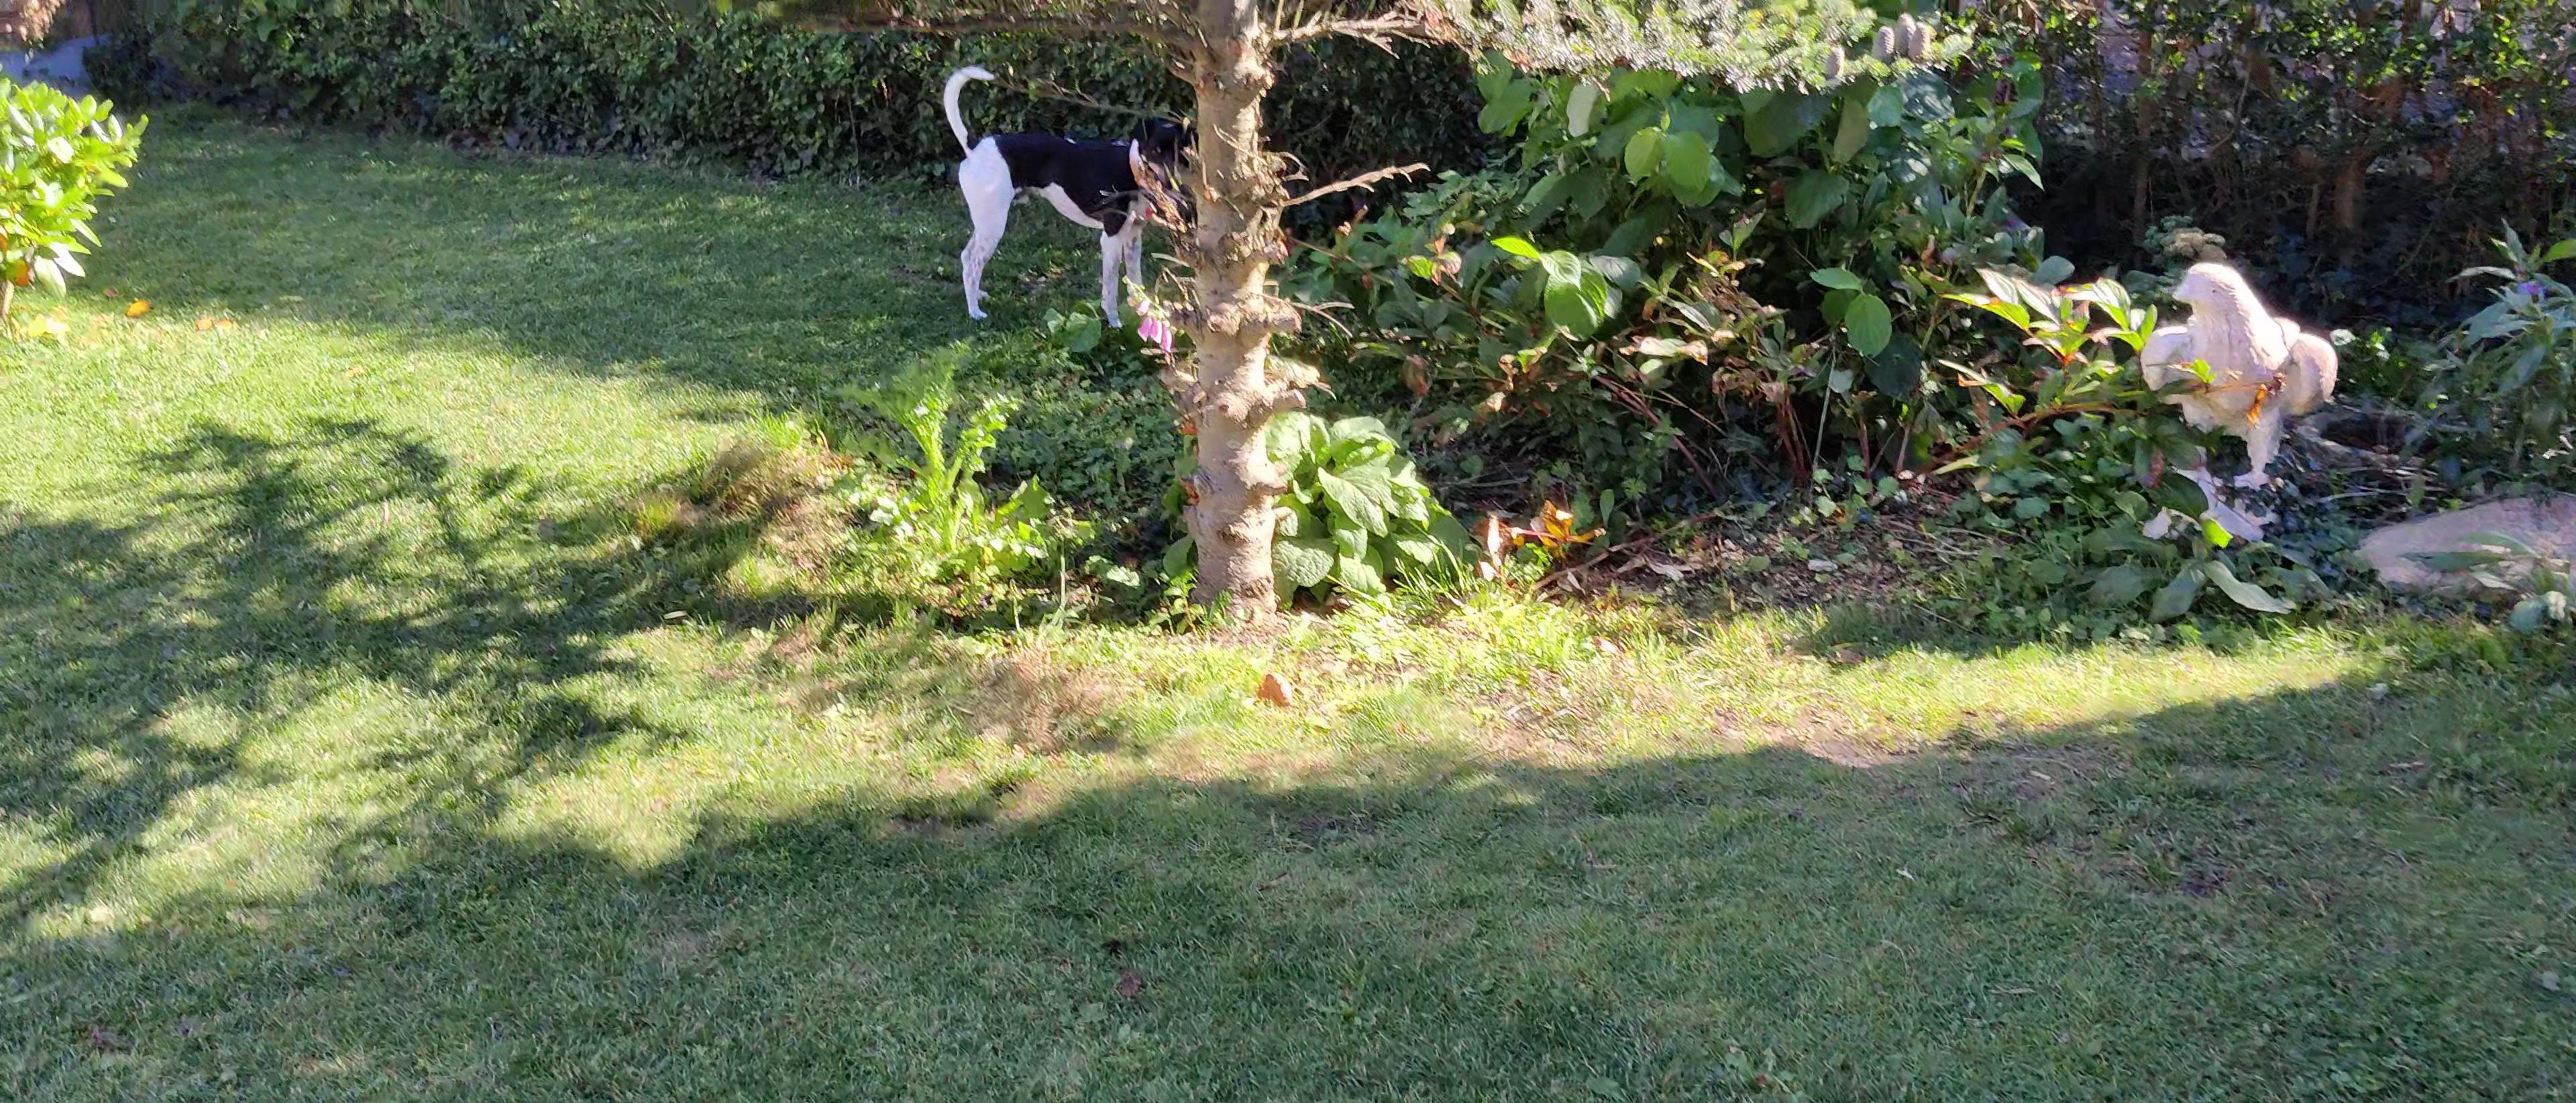Dog: (935, 59, 1201, 329)
